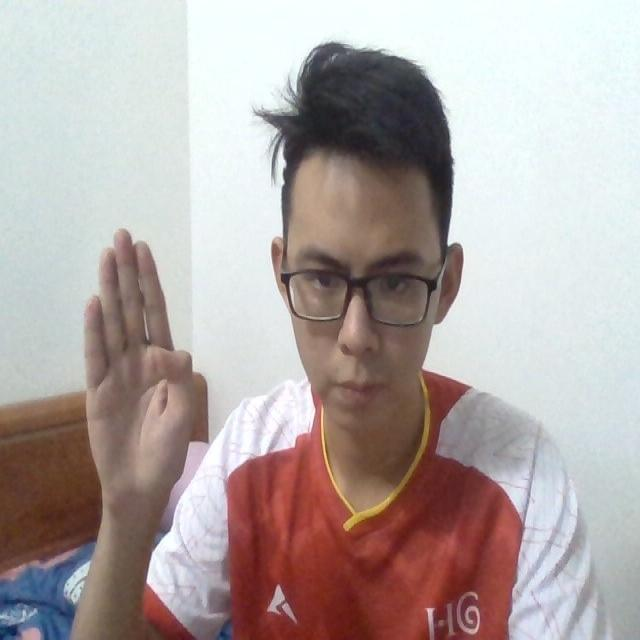B: (73, 218, 198, 497)
